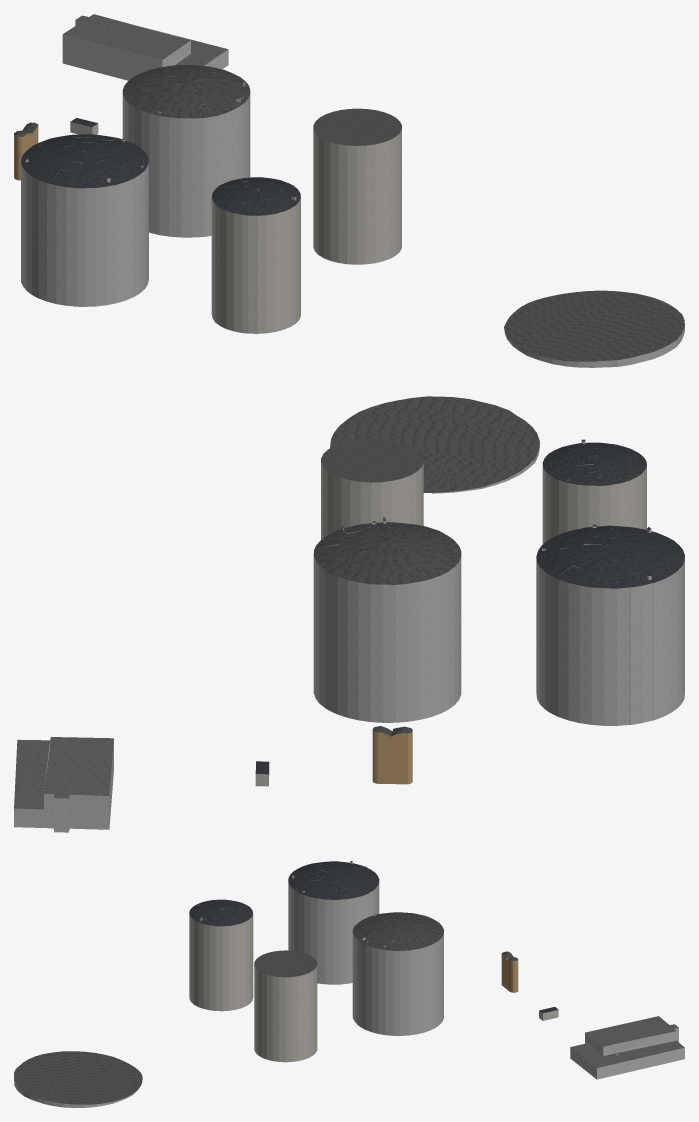
3 views of the same model, one above another, from view 1: azimuth 30°, elevation 25°; view 2: azimuth 150°, elevation 25°; view 3: azimuth 270°, elevation 25° (orthographic). The views are drawn at different scales.
Visible parts, largest first — view 1: bldg_6000069796, bldg_6000069800, bldg_6000069799, bldg_6000069801, bldg_6000114310_roof, bldg_6000069796_roof, bldg_6000069800_roof, bldg_6006777452_roof, bldg_6006777452, bldg_6000069799_roof, bldg_6000069801_roof, bldg_6000114310 (+1 smaller); view 2: bldg_6000069800, bldg_6000069796, bldg_6000114310_roof, bldg_6000069796_roof, bldg_6000069800_roof, bldg_6006777452_roof, bldg_6000069799, bldg_6000069801, bldg_6000069799_roof, bldg_6000069801_roof, bldg_6006777452, bldg_6000114318; view 3: bldg_6000069800, bldg_6000069796, bldg_6000069799, bldg_6000114310_roof, bldg_6000069801, bldg_6000069796_roof, bldg_6000069800_roof, bldg_6006777452_roof, bldg_6006777452, bldg_6000069799_roof, bldg_6000069801_roof, bldg_6000114318 (+1 smaller).
Part boxes in pixels (box(x1,y1,x2,y2)): bldg_6000069796: box(21, 136, 148, 306); bldg_6000069800: box(122, 69, 250, 237); bldg_6000069799: box(211, 179, 300, 333); bldg_6000069801: box(313, 129, 401, 264); bldg_6000114310_roof: box(504, 290, 684, 361); bldg_6000069796_roof: box(21, 134, 148, 188); bldg_6000069800_roof: box(123, 65, 250, 118); bldg_6006777452_roof: box(63, 14, 227, 65); bldg_6006777452: box(62, 20, 228, 80); bldg_6000069799_roof: box(212, 177, 300, 215); bldg_6000069801_roof: box(313, 108, 401, 145); bldg_6000114310: box(504, 326, 684, 367); bldg_6000069800: box(313, 519, 461, 722); bldg_6000069796: box(536, 526, 684, 725); bldg_6000114310_roof: box(330, 396, 539, 492); bldg_6000069796_roof: box(536, 524, 684, 588); bldg_6000069800_roof: box(313, 517, 461, 584); bldg_6006777452_roof: box(14, 737, 113, 809); bldg_6000069799: box(542, 440, 646, 544); bldg_6000069801: box(321, 462, 423, 539); bldg_6000069799_roof: box(542, 439, 646, 485); bldg_6000069801_roof: box(321, 439, 423, 482); bldg_6006777452: box(14, 738, 113, 832); bldg_6000114318: box(372, 728, 412, 784); bldg_6000069800: box(352, 914, 443, 1035); bldg_6000069796: box(288, 861, 379, 984); bldg_6000069799: box(189, 901, 253, 1011); bldg_6000114310_roof: box(14, 1051, 142, 1104); bldg_6000069801: box(254, 966, 317, 1062); bldg_6000069796_roof: box(288, 861, 379, 899); bldg_6000069800_roof: box(352, 912, 443, 950); bldg_6006777452_roof: box(570, 1016, 684, 1067); bldg_6006777452: box(570, 1027, 684, 1079); bldg_6000069799_roof: box(189, 899, 252, 926); bldg_6000069801_roof: box(254, 950, 317, 977); bldg_6000114318: box(501, 952, 518, 992).
Bounding box in the file's own units: 125 × 33.28 × 219.
10 materials, 10 textured.
